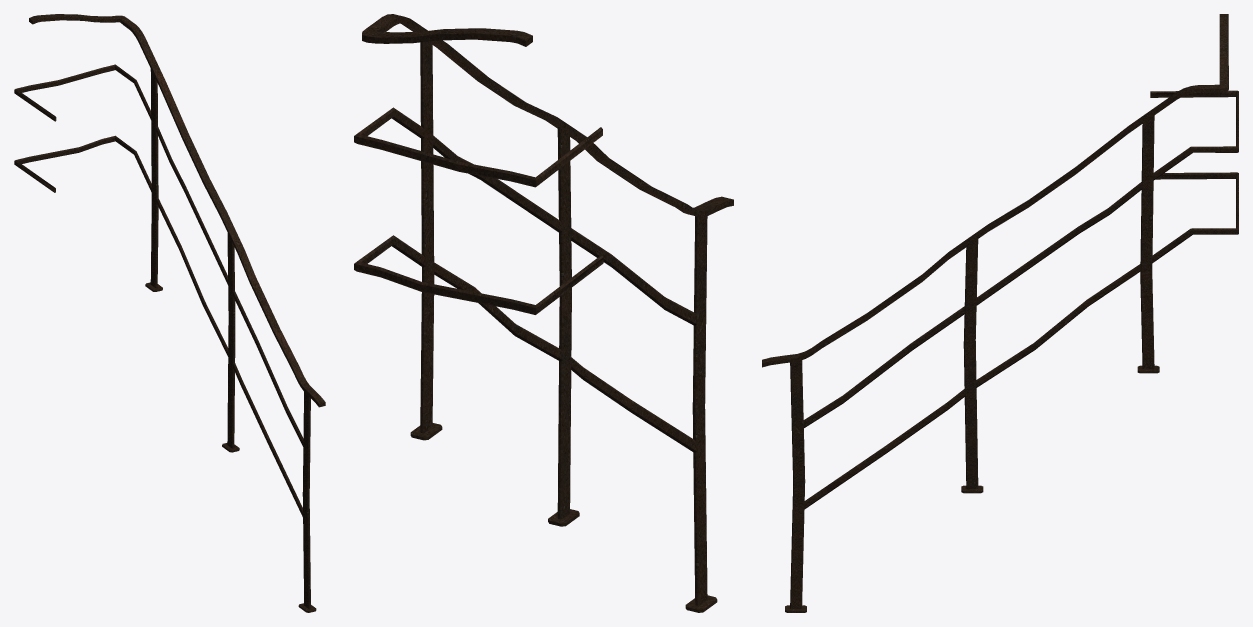
Rendered from hand_rail_2.glb.
3 renders of one model, left to right at view 1: azimuth 30°, elevation 25°; view 2: azimuth 150°, elevation 25°; view 3: azimuth 270°, elevation 25°, orthographic. The views are drawn at different scales.
Parts seen in each view (by area): view 1: hand_rail_2; view 2: hand_rail_2; view 3: hand_rail_2.
Boxes of the visible parts, <box> form: hand_rail_2: <box>14,14,325,612</box>; hand_rail_2: <box>354,14,733,612</box>; hand_rail_2: <box>762,14,1238,612</box>.
Size of the model in its own units: 0.6361 by 2.74 by 2.16.
1 material, 1 textured.
